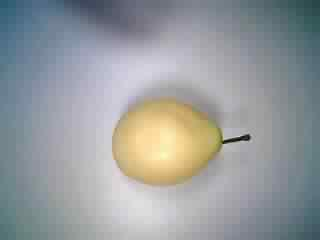pear: (103, 86, 256, 191)
